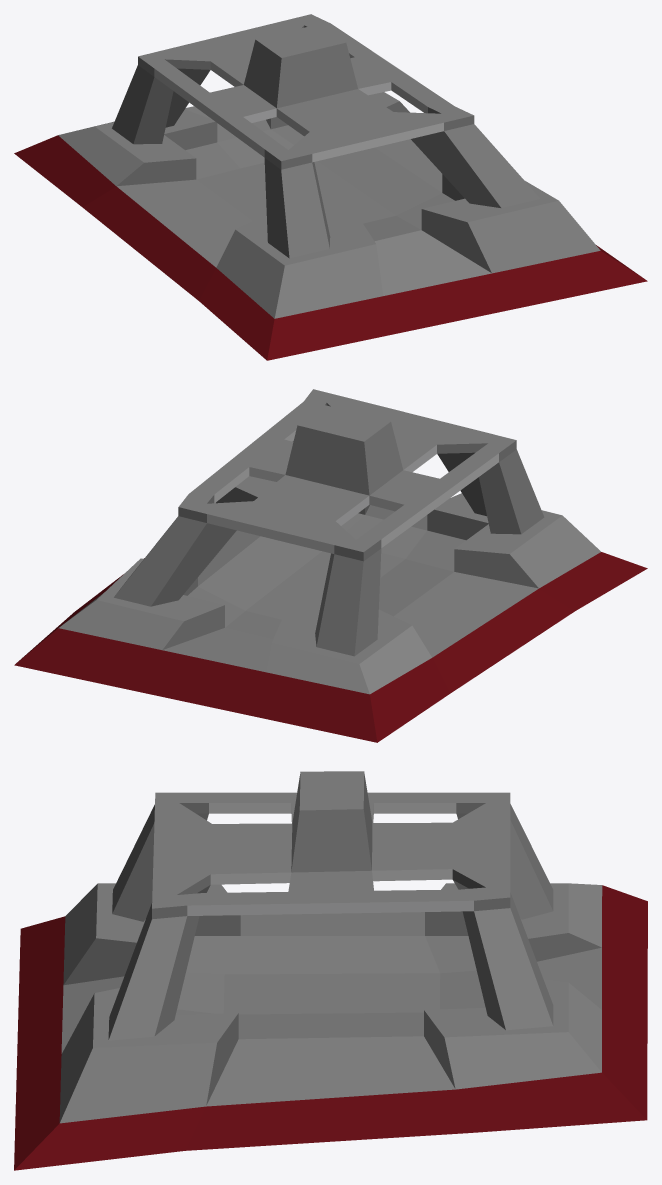
The model's file is BottomOfTurret.fbx.
3 views of the same model, one above another, from view 1: azimuth 30°, elevation 25°; view 2: azimuth 150°, elevation 25°; view 3: azimuth 270°, elevation 25° (orthographic). The views are drawn at different scales.
Visible parts, largest first — view 1: TurretPlatform; view 2: TurretPlatform; view 3: TurretPlatform.
Boxes of the visible parts, x1,y1,x2,y2 form: TurretPlatform: (14,14,647,360); TurretPlatform: (14,389,647,742); TurretPlatform: (14,771,647,1170).
Bounding box in the file's own units: 0.5831 × 0.2942 × 0.6832.
